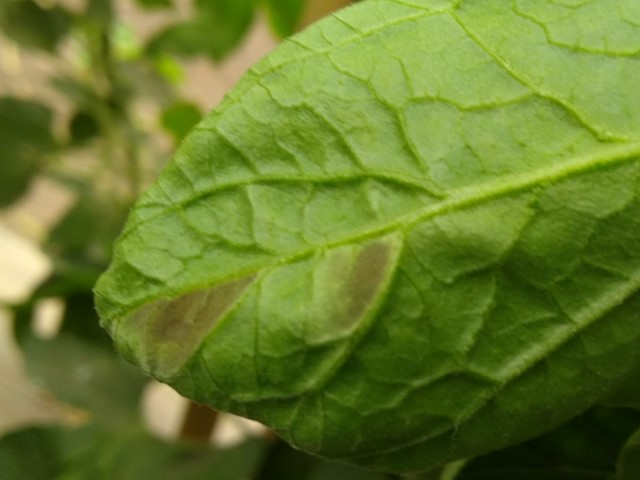cladosporium: (122, 279, 240, 360), (331, 244, 402, 335)
